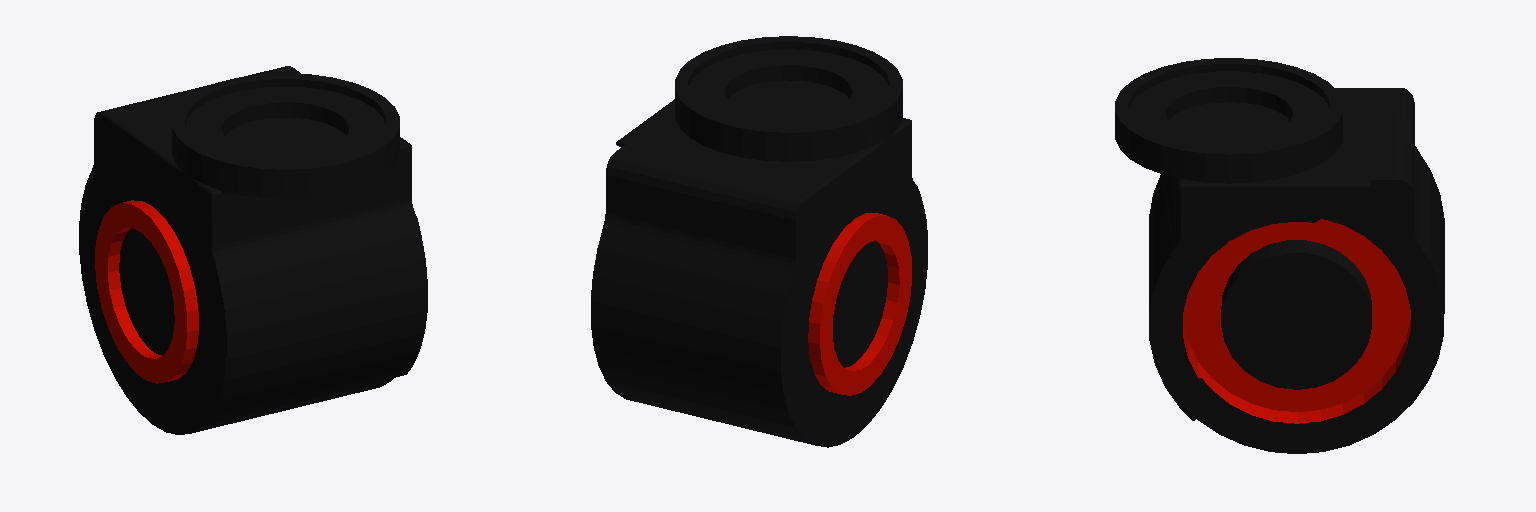
File: Hip_pitch_right.obj
3 views of the same model, side by side, from view 1: azimuth 30°, elevation 25°; view 2: azimuth 150°, elevation 25°; view 3: azimuth 270°, elevation 25° (orthographic).
Visible parts, largest first — view 1: Hip_Pitch_Right; view 2: Hip_Pitch_Right; view 3: Hip_Pitch_Right.
Part boxes in pixels (bbox=[...]): Hip_Pitch_Right: bbox=[79, 66, 427, 434]; Hip_Pitch_Right: bbox=[591, 36, 927, 447]; Hip_Pitch_Right: bbox=[1115, 58, 1444, 453].
Size of the model in its own units: 0.073 by 0.0995 by 0.0977.